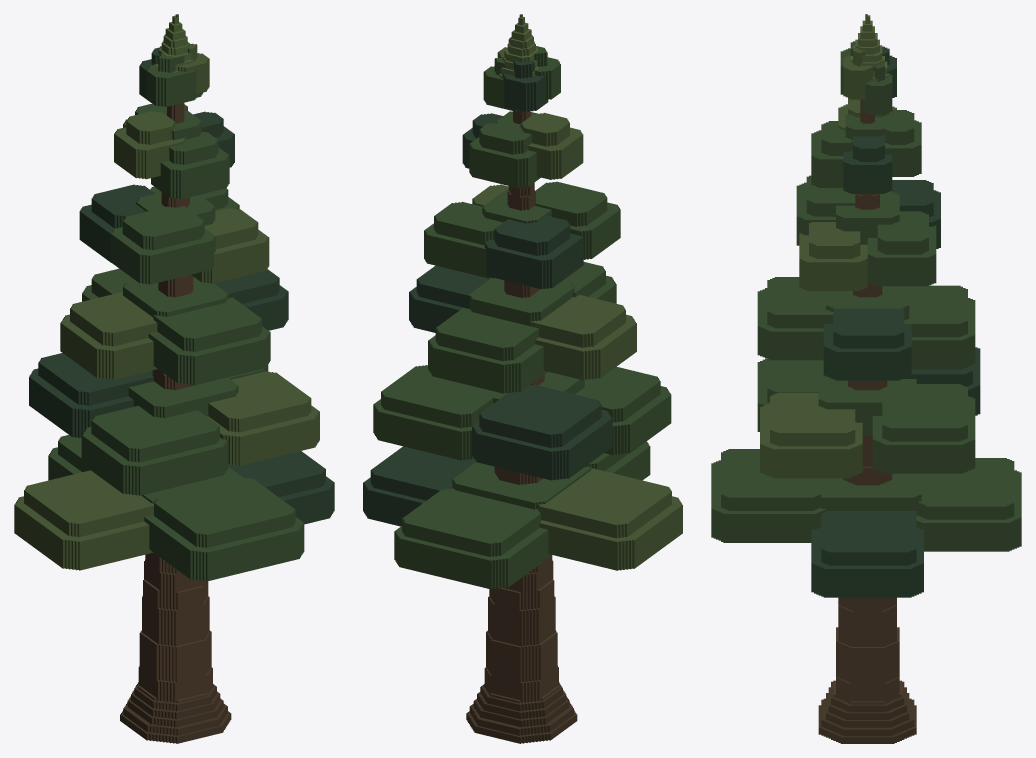
File: pine.glb
3 views of the same model, side by side, from view 1: azimuth 30°, elevation 25°; view 2: azimuth 150°, elevation 25°; view 3: azimuth 270°, elevation 25° (orthographic).
Visible parts, largest first — view 1: VoxelVisual; view 2: VoxelVisual; view 3: VoxelVisual.
Part boxes in pixels (<box>): VoxelVisual: <box>14,14,334,743</box>; VoxelVisual: <box>363,14,682,743</box>; VoxelVisual: <box>711,14,1021,743</box>.
Size of what is drawn, in the model's own units: 8.12 by 20 by 7.94.
